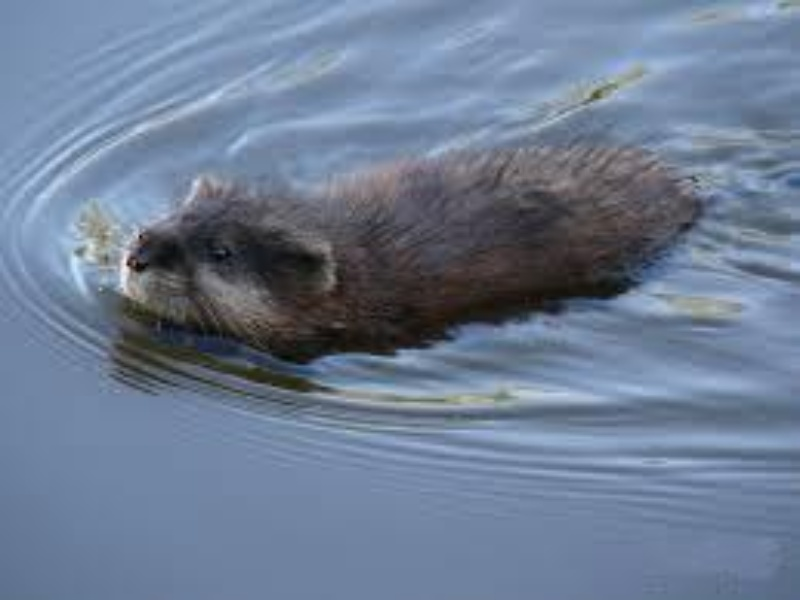minkish: (120, 130, 702, 360)
